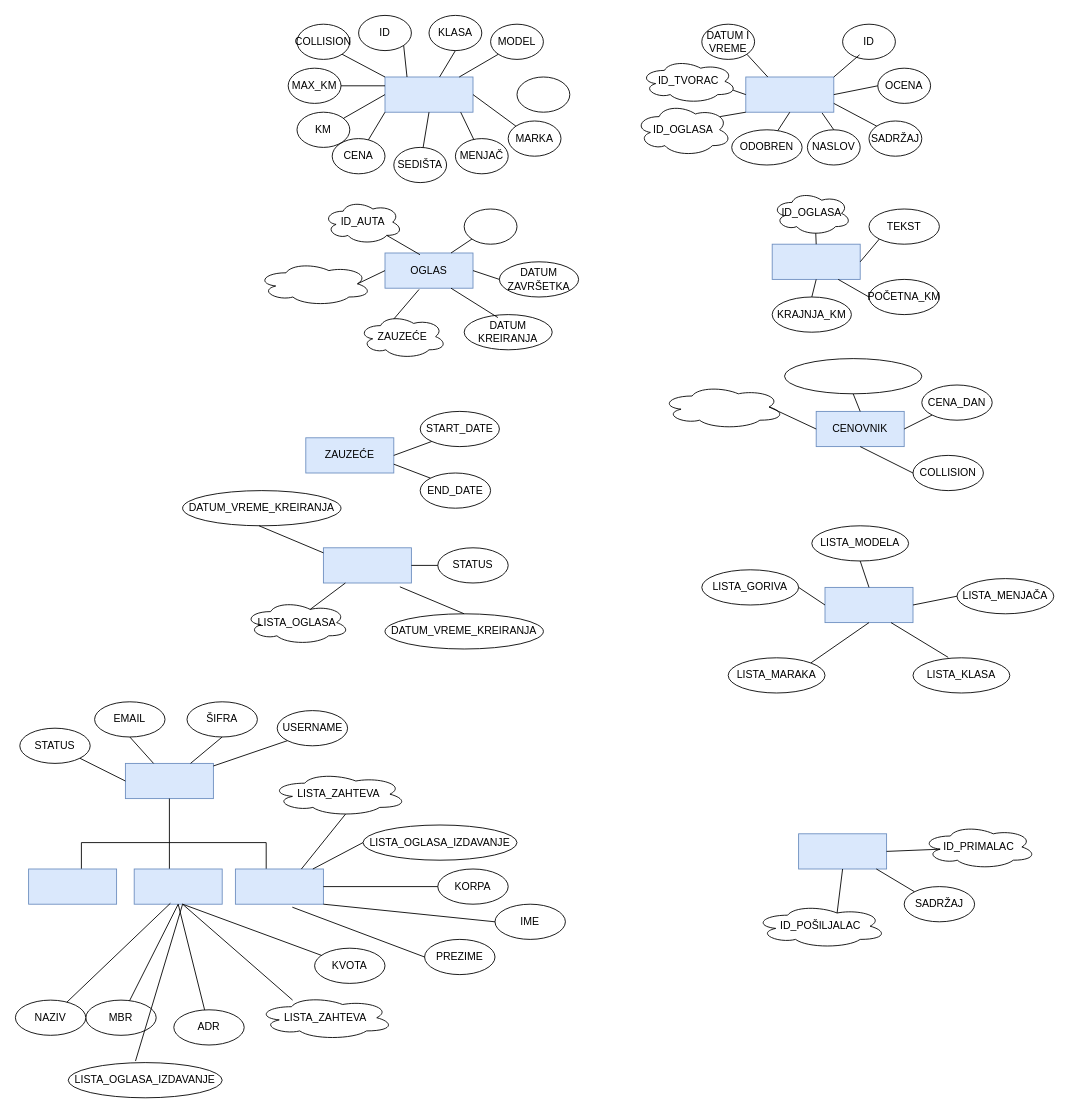
Some shapes in this 1069 by 1113 pixel diagram are drawn without their labels. Each missing label, with the centre of its shape:
ADMIN: [72,886]
AGENT: [177,886]
AUTO: [428,94]
CENA_PREKO_MAX_KM: [853,376]
GORIVO: [543,94]
ID_CENOVNIKA: [314,283]
ID_KORISNIKA: [722,406]
iZVEŠTAJ: [815,261]
KORISNIK: [169,781]
KRAJNJI: [279,886]
OPIS: [490,226]
PORUKA: [842,851]
RECENZIJA: [789,94]
ZAHTEV: [367,565]
ŠIFARNIK: [868,605]
